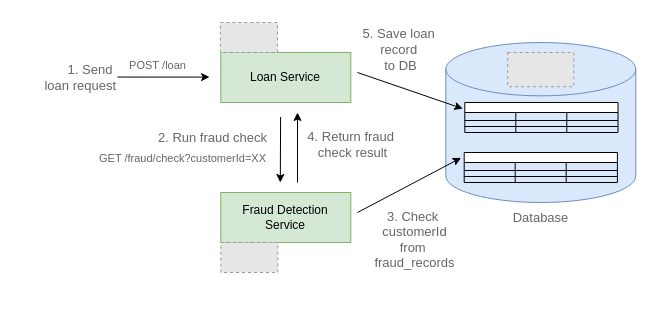
The diagram is 654 pixels wide and 309 high, and some of its shapes have lost their labels. Grey dashed boxes stand in for pictures. The centre of each missing label's shape, as x and y in pixels:
"fraud_records" belongs at point (540, 167).
"loans" belongs at point (541, 117).
